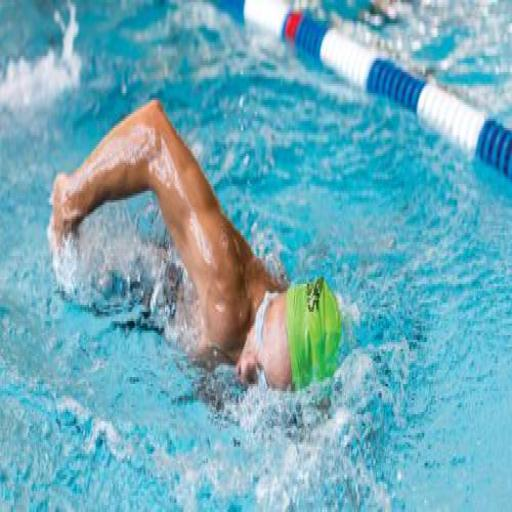swimming: (48, 96, 349, 402)
